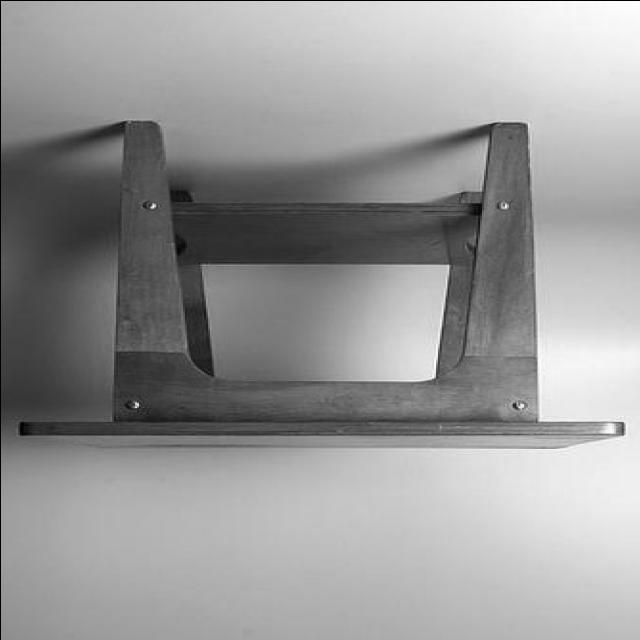table: (17, 119, 620, 446)
